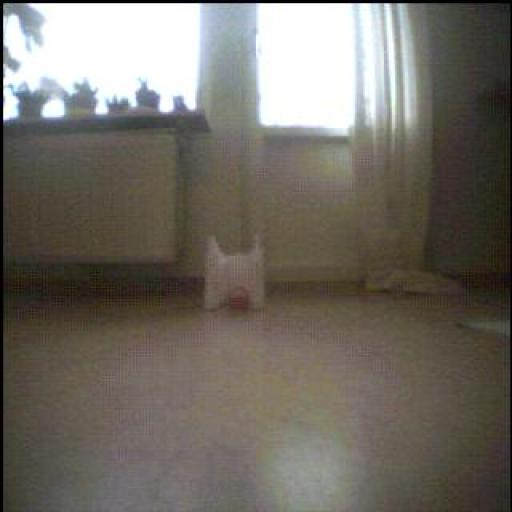Basket: (230, 287, 251, 310)
